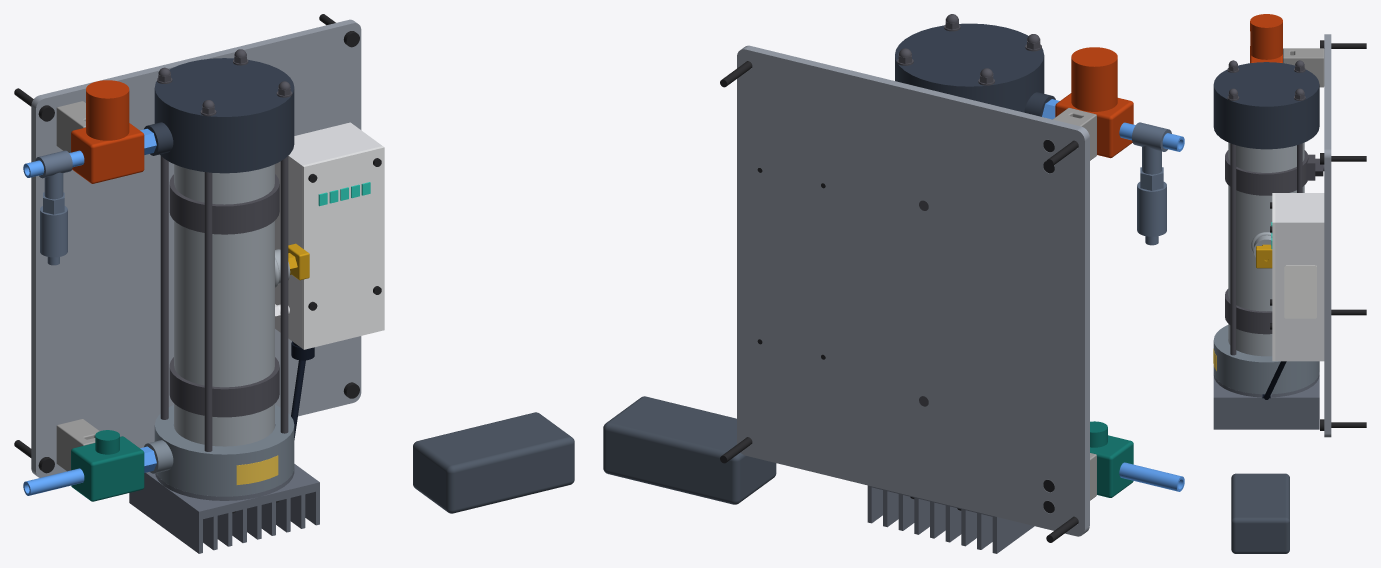
3 views of the same model, side by side, from view 1: azimuth 30°, elevation 25°; view 2: azimuth 150°, elevation 25°; view 3: azimuth 270°, elevation 25° (orthographic). The views are drawn at different scales.
Parts seen in each view (by area): view 1: Bracket plate and saddles (×2), Reactor tube with welded sensor boss, 316, Enclosure, lid and UV level bar (×2), Upper end cap, acetal, 24 V power adapter, Tie rods and screws (×2), Heat sink and spreader ring, Lower end cap, 316 stainless, Pipe clamps, Solenoid shutoff valve, Hall-effect flow sensor, Outlet pressure sensor and tee (+4 smaller); view 2: Bracket plate and saddles (×2), 24 V power adapter, Upper end cap, acetal, Heat sink and spreader ring, Solenoid shutoff valve, Outlet pressure sensor and tee, Tie rods and screws (×2), Hall-effect flow sensor, Fittings, stem adaptors and outlet sleeve; view 3: Upper end cap, acetal, Enclosure, lid and UV level bar (×2), Reactor tube with welded sensor boss, 316, 24 V power adapter, Heat sink and spreader ring, Bracket plate and saddles (×2), Lower end cap, 316 stainless, Tie rods and screws (×2), Pipe clamps, Labels, Solenoid shutoff valve, UV-C sensor window, photodiode and amplifier (+1 smaller).
Part boxes in pixels (left/top/right/bottom): Bracket plate and saddles (×2): left=31, top=19, right=361, bottom=477; Reactor tube with welded sensor boss, 316: left=174, top=164, right=290, bottom=446; Enclosure, lid and UV level bar (×2): left=275, top=122, right=384, bottom=349; Upper end cap, acetal: left=144, top=58, right=294, bottom=173; 24 V power adapter: left=413, top=412, right=574, bottom=513; Tie rods and screws (×2): left=14, top=14, right=359, bottom=473; Heat sink and spreader ring: left=129, top=464, right=319, bottom=553; Lower end cap, 316 stainless: left=144, top=405, right=294, bottom=496; Pipe clamps: left=169, top=174, right=279, bottom=417; Solenoid shutoff valve: left=71, top=80, right=144, bottom=183; Hall-effect flow sensor: left=71, top=430, right=144, bottom=501; Outlet pressure sensor and tee: left=35, top=150, right=72, bottom=265; Bracket plate and saddles (×2): left=737, top=45, right=1096, bottom=536; 24 V power adapter: left=603, top=396, right=776, bottom=504; Upper end cap, acetal: left=895, top=23, right=1055, bottom=116; Heat sink and spreader ring: left=867, top=485, right=1034, bottom=553; Solenoid shutoff valve: left=1055, top=47, right=1133, bottom=158; Outlet pressure sensor and tee: left=1132, top=122, right=1171, bottom=245; Tie rods and screws (×2): left=720, top=14, right=1078, bottom=542; Hall-effect flow sensor: left=1090, top=421, right=1133, bottom=497; Fittings, stem adaptors and outlet sleeve: left=1042, top=99, right=1184, bottom=491; Upper end cap, acetal: left=1213, top=62, right=1319, bottom=149; Enclosure, lid and UV level bar (×2): left=1272, top=193, right=1324, bottom=361; Reactor tube with welded sensor boss, 316: left=1228, top=142, right=1304, bottom=356; 24 V power adapter: left=1231, top=473, right=1289, bottom=553; Heat sink and spreader ring: left=1213, top=372, right=1319, bottom=429; Bracket plate and saddles (×2): left=1283, top=34, right=1331, bottom=437; Lower end cap, 316 stainless: left=1213, top=325, right=1319, bottom=394; Tie rods and screws (×2): left=1227, top=40, right=1366, bottom=430; Pipe clamps: left=1225, top=150, right=1324, bottom=334; Labels: left=1284, top=265, right=1316, bottom=318; Solenoid shutoff valve: left=1250, top=14, right=1282, bottom=63; UV-C sensor window, photodiode and amplifier: left=1256, top=244, right=1272, bottom=268.
Bounding box in the file's own units: 0.392 × 0.347 × 0.1302.
